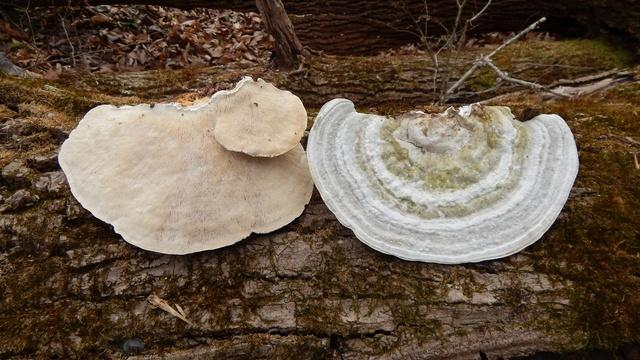Non-edible Mushroom: (306, 95, 580, 265), (57, 74, 314, 255)
